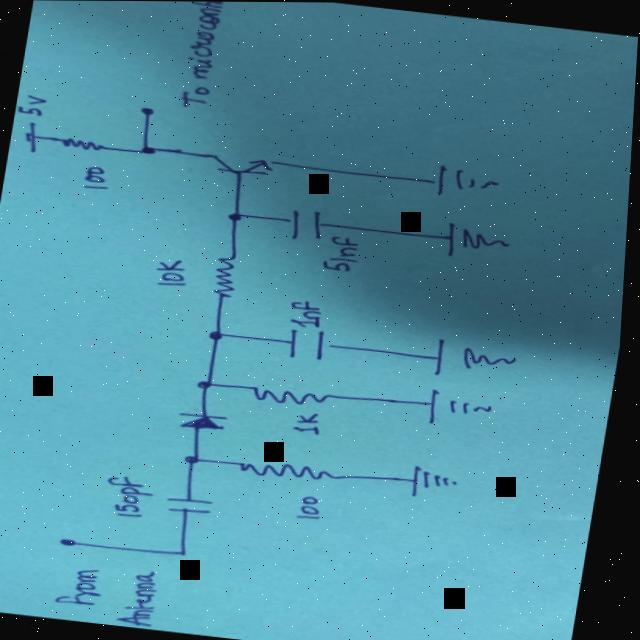capacitor: (284, 206, 331, 243), (283, 327, 332, 360), (167, 494, 217, 517)
diode: (177, 409, 228, 433)
ground: (428, 337, 521, 383), (420, 160, 507, 201), (424, 387, 503, 432), (437, 221, 511, 263), (405, 464, 461, 500)
junction: (191, 376, 219, 393), (223, 208, 250, 224), (134, 142, 160, 156), (208, 327, 229, 343), (184, 452, 206, 466), (174, 547, 200, 558)
resistor: (234, 457, 342, 485), (206, 251, 249, 302), (247, 385, 337, 408), (55, 136, 109, 153)
source: (19, 119, 40, 152)
terminal: (57, 533, 91, 550), (133, 104, 161, 120)
text: (58, 562, 168, 626), (172, 1, 225, 109), (102, 475, 152, 521), (316, 233, 365, 274), (287, 297, 328, 328), (155, 258, 193, 289), (293, 408, 332, 437), (77, 165, 110, 192), (17, 93, 50, 117), (298, 494, 325, 521)
transistor: (207, 153, 277, 180)
